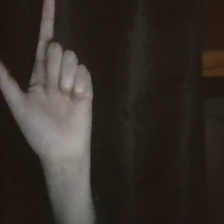L: (1, 1, 105, 168)
